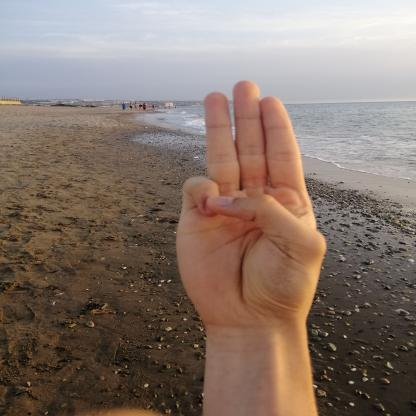THA: (153, 70, 343, 340)
